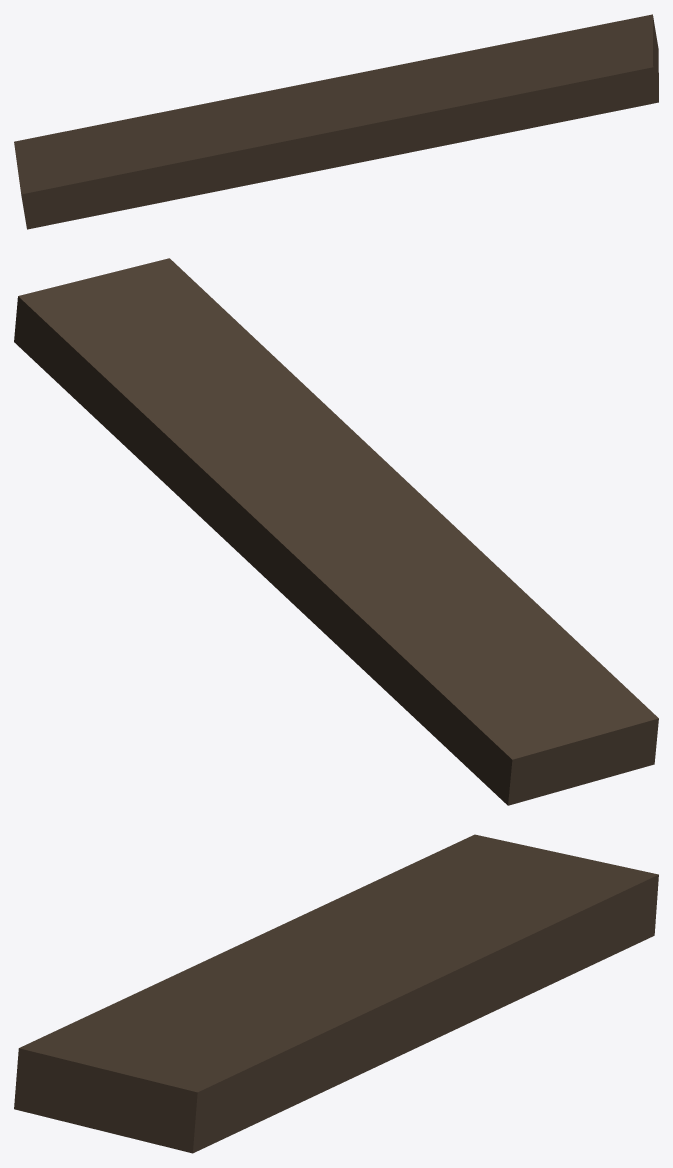
The model's file is Fireplace_modern_Log3.FBX.
3 renders of one model, top to bottom at view 1: azimuth 30°, elevation 25°; view 2: azimuth 150°, elevation 25°; view 3: azimuth 270°, elevation 25°, orthographic. The views are drawn at different scales.
Visible parts, largest first — view 1: Fireplace_modern_Log3; view 2: Fireplace_modern_Log3; view 3: Fireplace_modern_Log3.
Part boxes in pixels (x1=…): Fireplace_modern_Log3: x1=14, y1=14, x2=658, y2=229; Fireplace_modern_Log3: x1=14, y1=258, x2=658, y2=805; Fireplace_modern_Log3: x1=14, y1=834, x2=658, y2=1153.
Size of the model in its own units: 30.05 by 7.56 by 18.66.
Materials: 1 (1 with a texture image).
